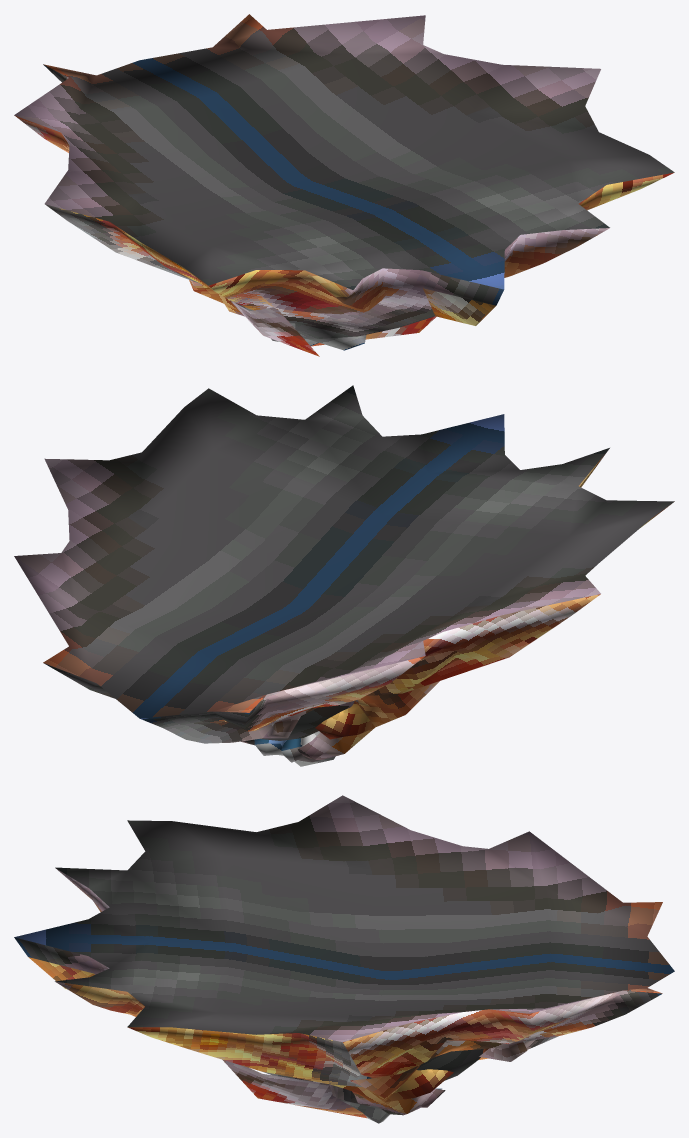
3 views of the same model, one above another, from view 1: azimuth 30°, elevation 25°; view 2: azimuth 150°, elevation 25°; view 3: azimuth 270°, elevation 25° (orthographic). The views are drawn at different scales.
Parts seen in each view (by area): view 1: "Editable Poly"; view 2: "Editable Poly"; view 3: "Editable Poly".
Part boxes in pixels (bbox=[...]): "Editable Poly": bbox=[14, 14, 674, 356]; "Editable Poly": bbox=[14, 385, 674, 766]; "Editable Poly": bbox=[14, 795, 674, 1123].
Bounding box in the file's own units: 0.9301 × 0.3583 × 1.05.
